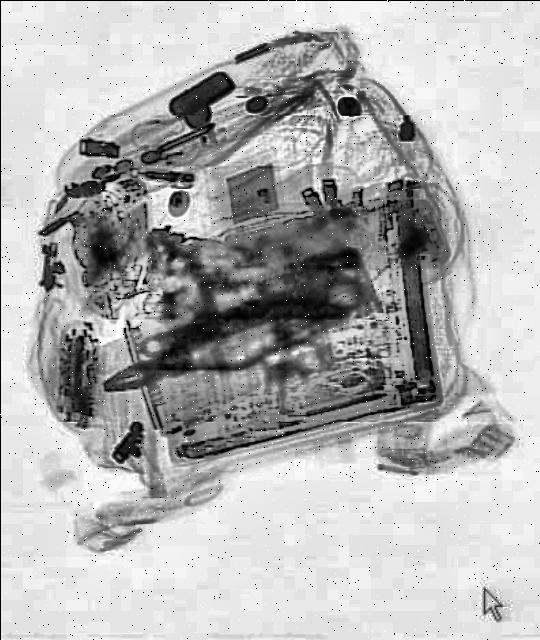Pliers: (92, 286, 312, 416)
